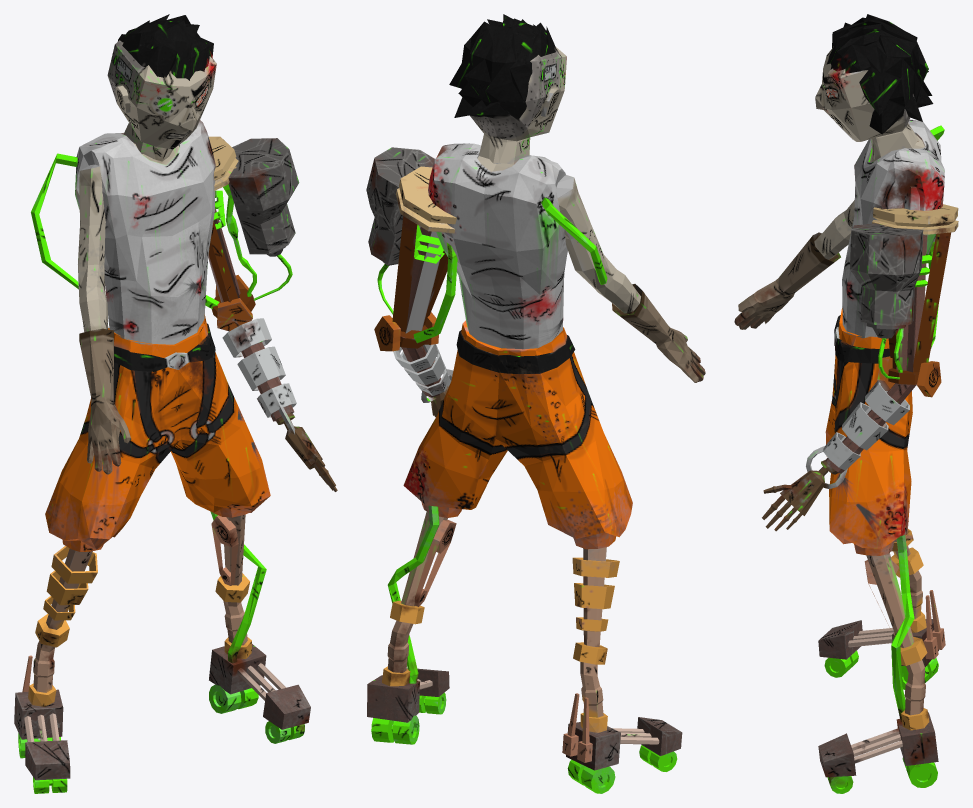
The model's file is CyborgFINALAnimation_000003.obj.
3 views of the same model, side by side, from view 1: azimuth 30°, elevation 25°; view 2: azimuth 150°, elevation 25°; view 3: azimuth 270°, elevation 25° (orthographic). The views are drawn at different scales.
Parts seen in each view (by area): view 1: CyborgMesh_Cube.002; view 2: CyborgMesh_Cube.002; view 3: CyborgMesh_Cube.002.
Part boxes in pixels (bbox=[...]): CyborgMesh_Cube.002: bbox=[14, 14, 337, 793]; CyborgMesh_Cube.002: bbox=[366, 14, 705, 793]; CyborgMesh_Cube.002: bbox=[734, 14, 958, 793].
Size of the model in its own units: 3.92 by 9.66 by 2.73.
